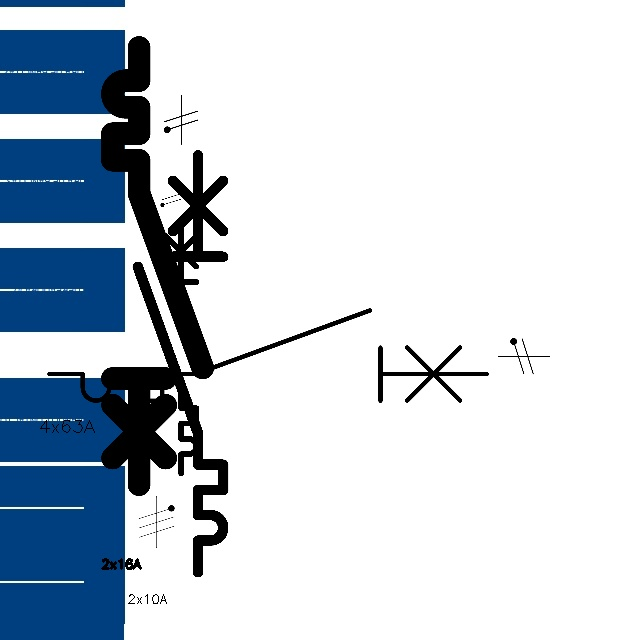interruptor_termomagnetico: (38, 299, 498, 412), (101, 36, 213, 496), (127, 144, 234, 582), (138, 214, 203, 480)
